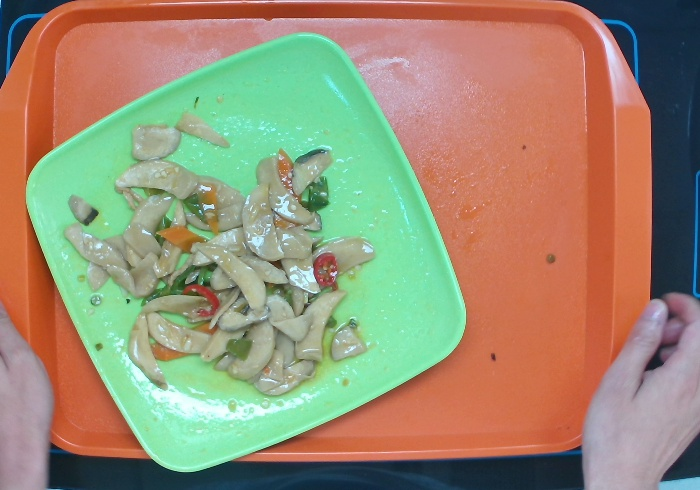ZNLD-Lv_Fang_Pan: (24, 21, 469, 475)
